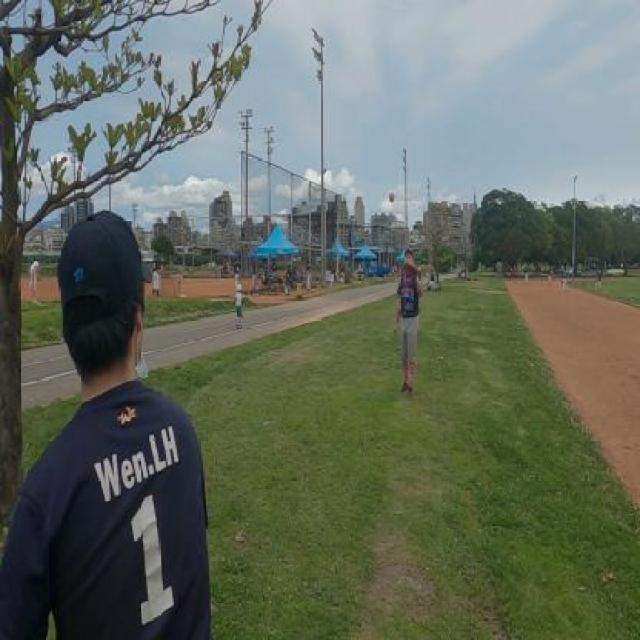baseball: (390, 191, 396, 203)
